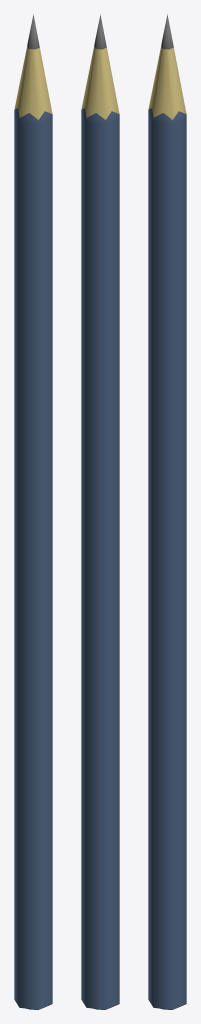
The model's file is Pencil.fbx.
3 views of the same model, side by side, from view 1: azimuth 90°, elevation 25°; view 2: azimuth 210°, elevation 25°; view 3: azimuth 270°, elevation 25° (orthographic).
Visible parts, largest first — view 1: pencil; view 2: pencil; view 3: pencil.
Boxes of the visible parts, box(x1,y1,x2,y2) form: pencil: box(14, 14, 52, 1009); pencil: box(81, 14, 119, 1009); pencil: box(148, 14, 186, 1009).
Size of the model in its own units: 0.0451 by 1.29 by 0.0451.
